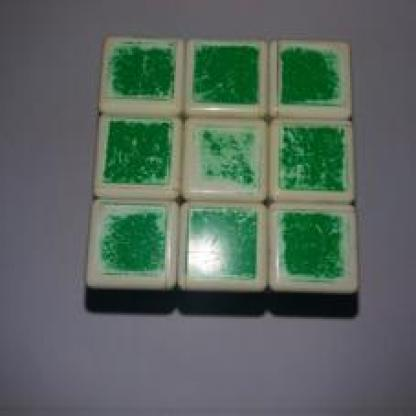cube: (84, 36, 367, 322)
